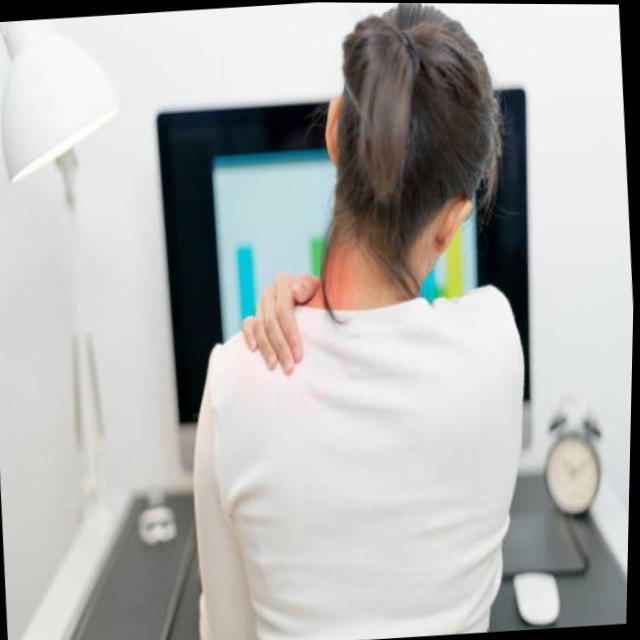no helmet: (295, 2, 525, 359)
